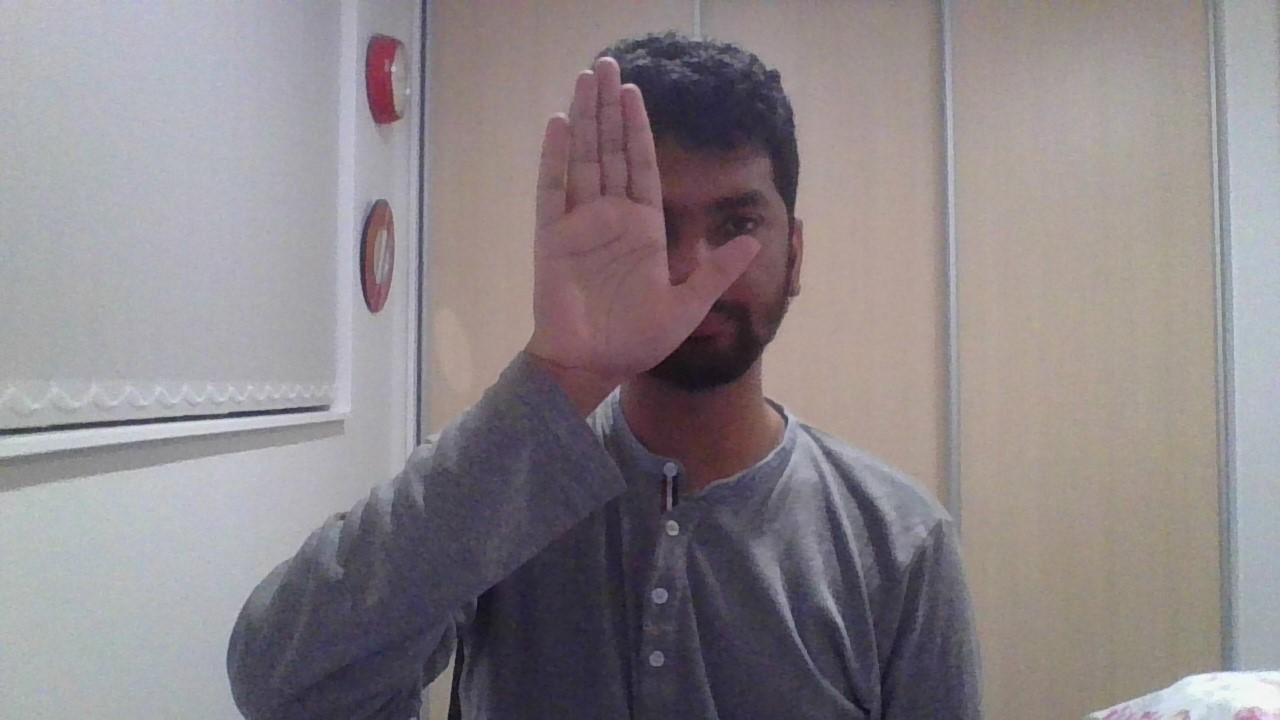hello: (532, 55, 759, 372)
